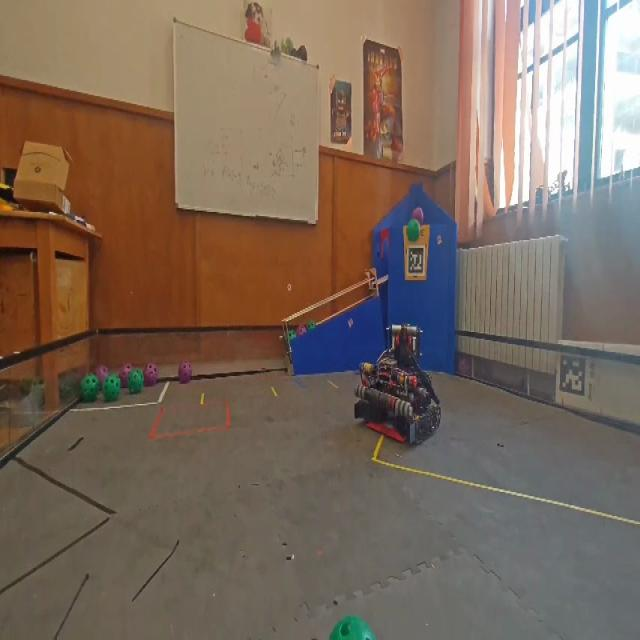artifact_green: (329, 616, 375, 639), (59, 372, 81, 402), (81, 374, 99, 402), (103, 374, 121, 402), (30, 378, 44, 407), (128, 368, 143, 394), (407, 219, 419, 242), (19, 379, 32, 395), (282, 38, 294, 54), (59, 382, 69, 399), (297, 324, 306, 338), (32, 376, 44, 386), (285, 38, 294, 50), (288, 330, 296, 342), (307, 320, 316, 330)
artifact_purple: (95, 364, 109, 387), (144, 363, 158, 386), (119, 364, 133, 387), (178, 362, 191, 383), (413, 207, 423, 225), (297, 324, 306, 337)
